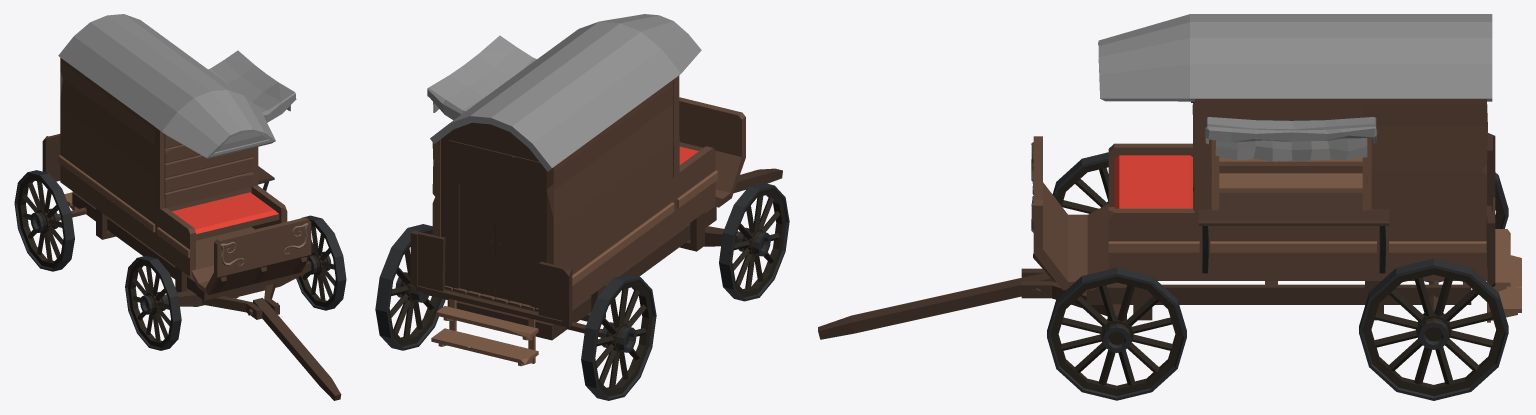
File: cart2.fbx
The picture shows the model from 3 angles, left to right: view 1: azimuth 30°, elevation 25°; view 2: azimuth 150°, elevation 25°; view 3: azimuth 270°, elevation 25°; orthographic projection. The views are drawn at different scales.
Parts seen in each view (by area): view 1: cart2, w4.001, w2.001, w1.001, f.001; view 2: cart2, w4.001, w2.001, w3.001, f.001; view 3: cart2, w3.001, w1.001, f.001, w2.001.
Boxes of the visible parts, x1,y1,x2,y2 form: cart2: [42, 14, 311, 319]; w4.001: [14, 170, 74, 271]; w2.001: [125, 256, 181, 350]; w1.001: [296, 215, 346, 310]; f.001: [252, 298, 341, 400]; cart2: [410, 14, 745, 366]; w4.001: [581, 274, 656, 400]; w2.001: [719, 183, 789, 301]; w3.001: [375, 224, 445, 350]; f.001: [733, 168, 782, 192]; cart2: [1021, 14, 1521, 322]; w3.001: [1359, 258, 1508, 400]; w1.001: [1047, 267, 1186, 400]; f.001: [818, 273, 1054, 339]; w2.001: [1052, 152, 1108, 213].
Size of the model in its own units: 222 by 251 by 505.
